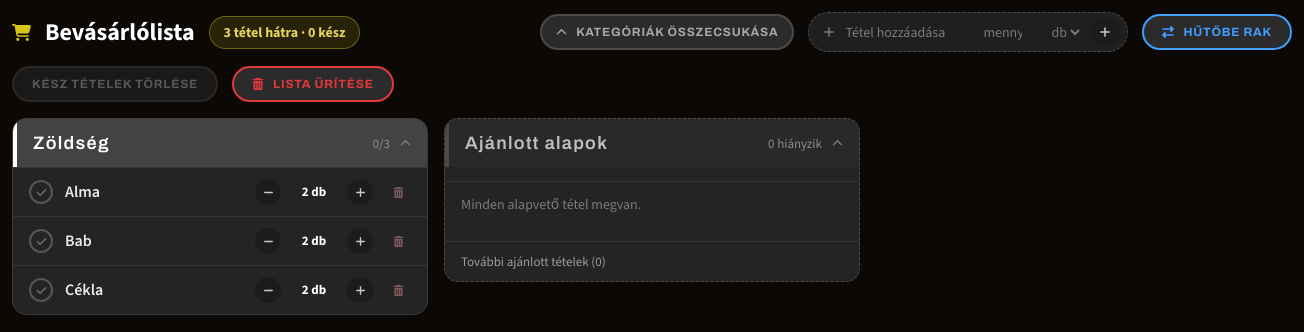
ShoppingView keyboard navigation › still collapses the card by activating the header
The image size is (1304, 332).
Click the button "Zöldség 0/3": (71, 143) [13, 119, 427, 167]
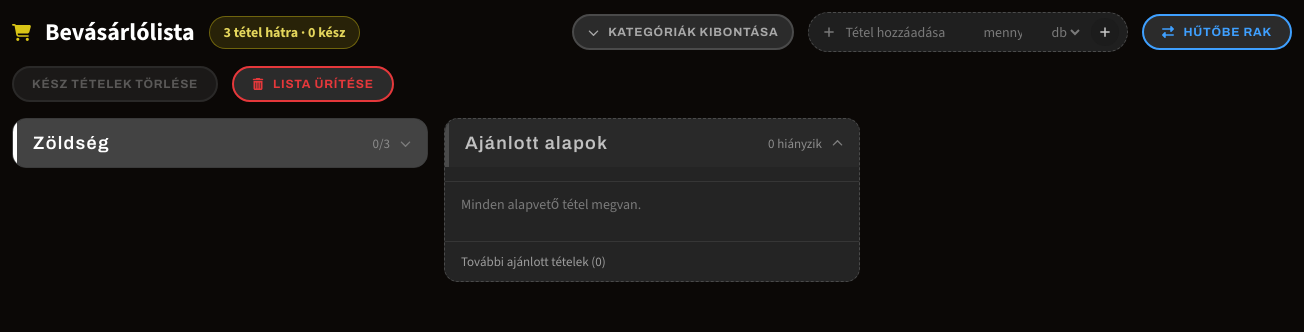
Check: the button "Zöldség 0/3" is collapsed, box [13, 119, 427, 167]
